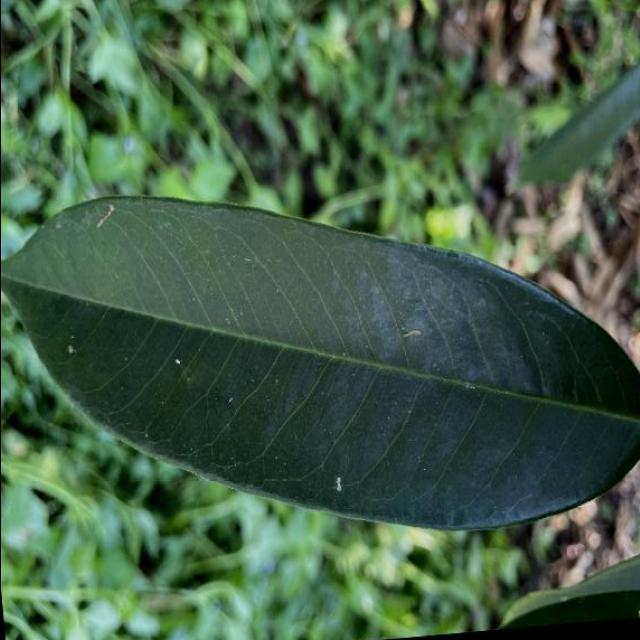No Disease: (0, 138, 640, 580)
